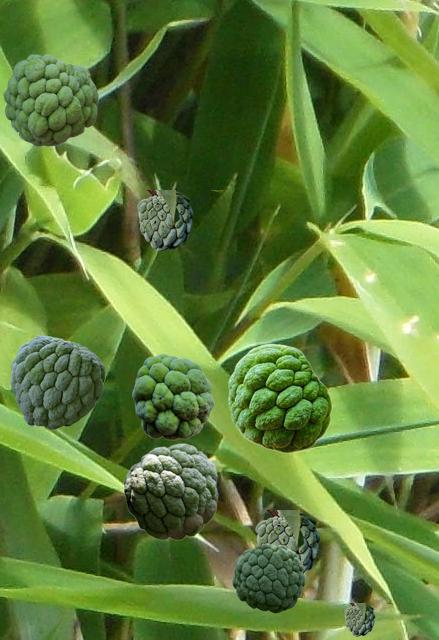atis: (228, 343, 331, 452), (123, 443, 217, 539), (10, 335, 104, 428), (3, 54, 97, 145), (132, 353, 213, 439), (255, 510, 353, 573), (137, 190, 222, 250), (232, 543, 304, 612), (344, 603, 390, 635)
